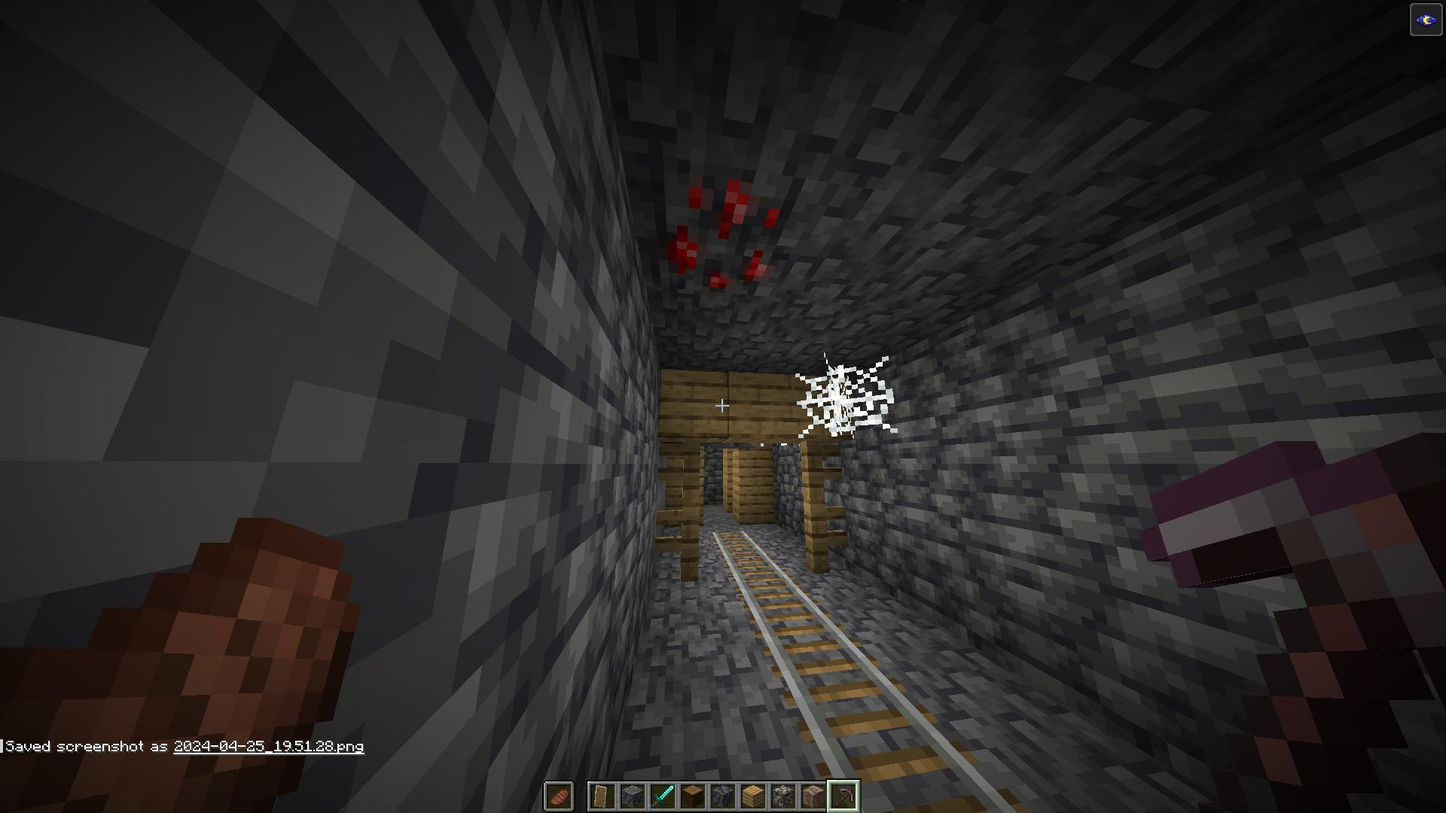redstone ore: (642, 166, 790, 301)
